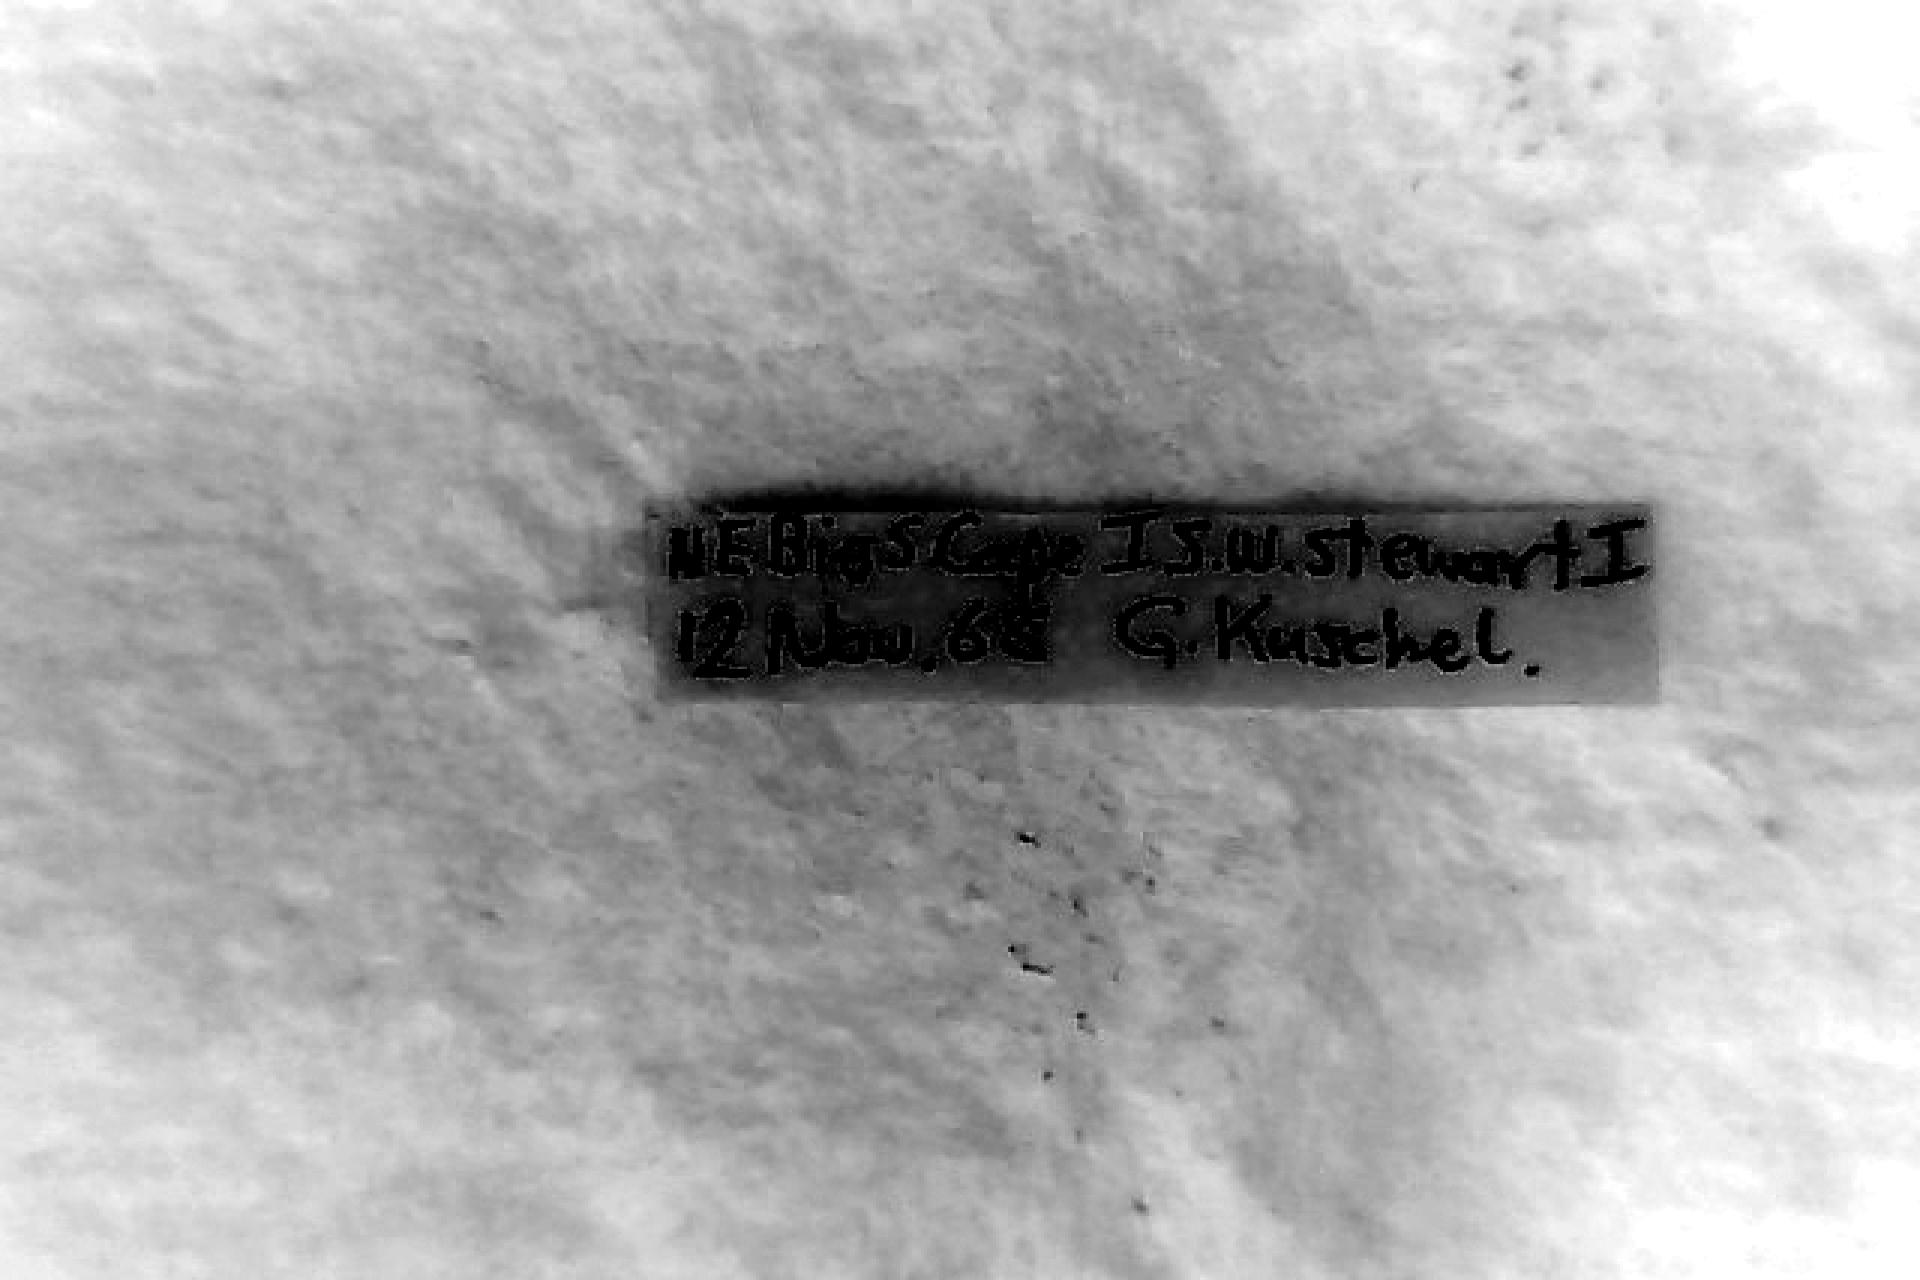hand_label: (652, 508, 1656, 705)
